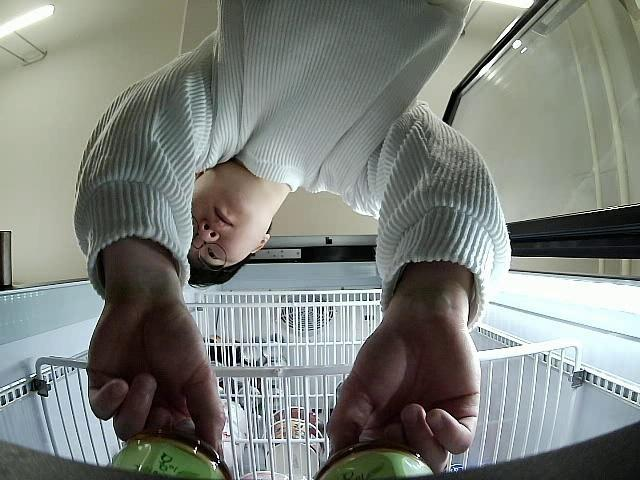19_17cha: (104, 422, 234, 480), (312, 440, 433, 480)
